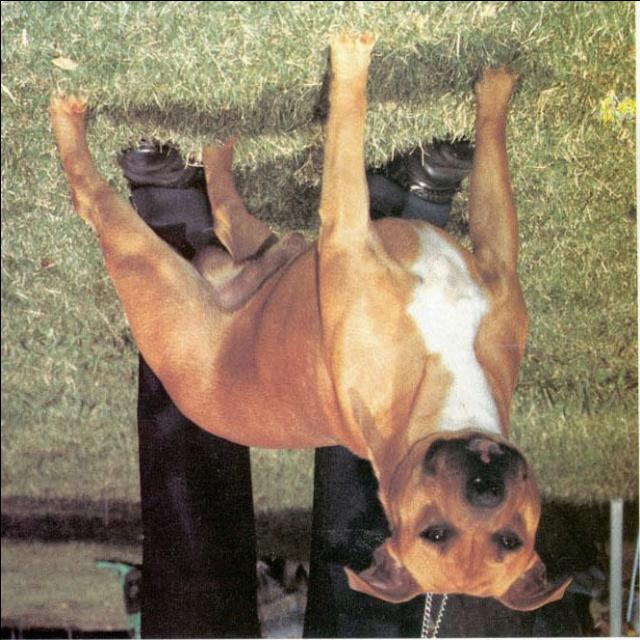staffordshire_bullterrier: (46, 28, 572, 612)
